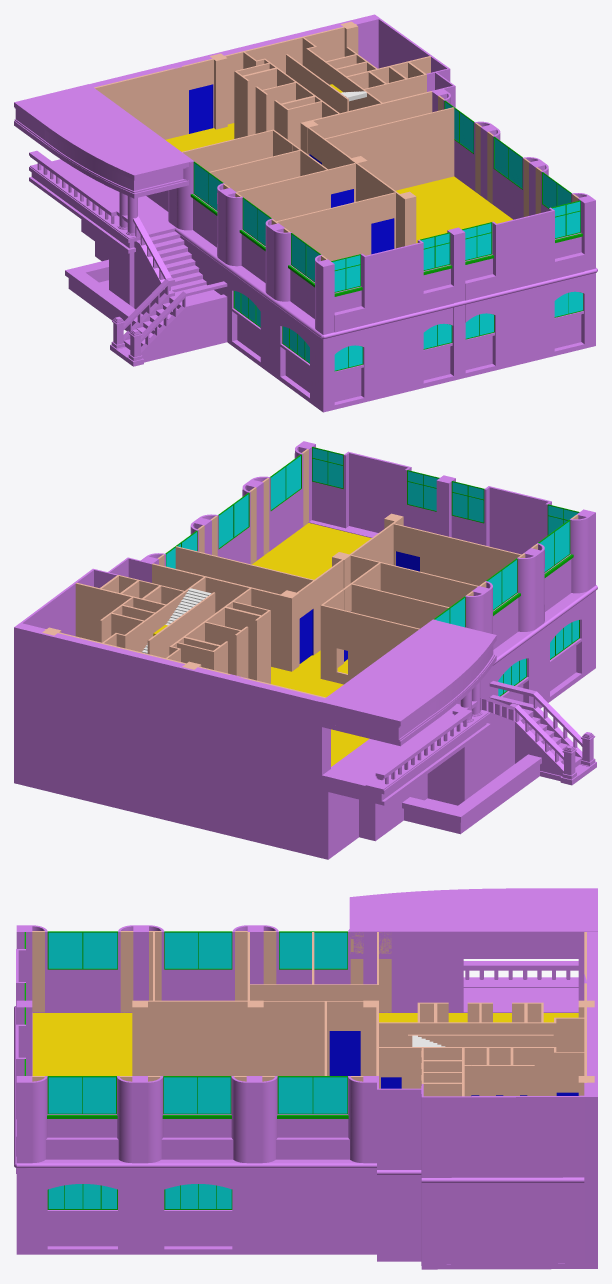
The picture shows the model from 3 angles, top to bottom: view 1: azimuth 30°, elevation 25°; view 2: azimuth 150°, elevation 25°; view 3: azimuth 270°, elevation 25°; orthographic projection. The views are drawn at different scales.
Parts seen in each view (by area): view 1: 物件_78; view 2: 物件_78; view 3: 物件_78.
Part boxes in pixels (x1,y1,x2,y2): 物件_78: (14,14,597,412); 物件_78: (14,441,597,859); 物件_78: (14,888,597,1269).
Size of the model in its own units: 155 by 54.61 by 168.
